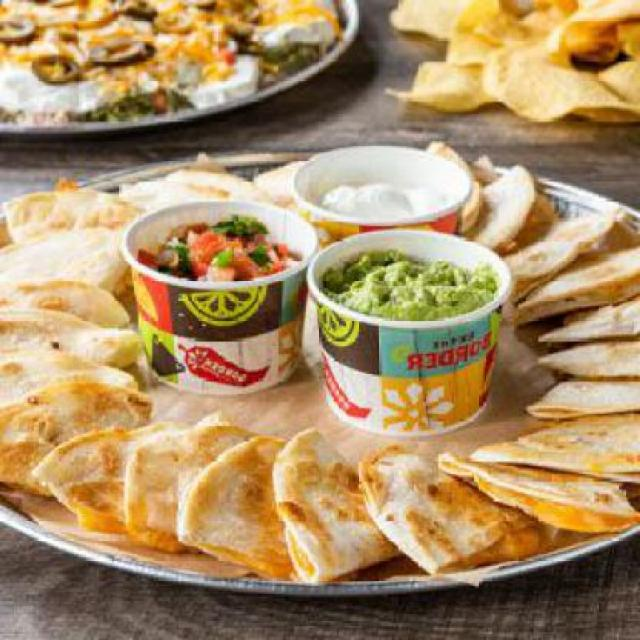chicken quesadilla: (1, 134, 638, 586)
guacamole: (322, 242, 502, 328)
